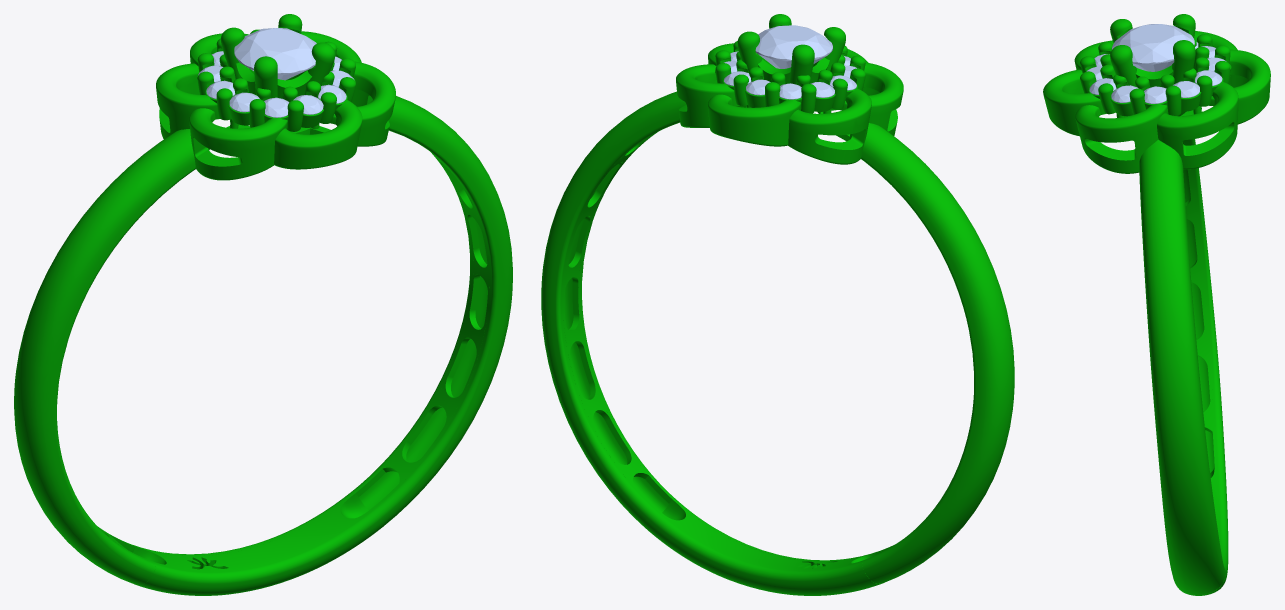
The picture shows the model from 3 angles, left to right: view 1: azimuth 30°, elevation 25°; view 2: azimuth 150°, elevation 25°; view 3: azimuth 270°, elevation 25°; orthographic projection. The views are drawn at different scales.
Parts seen in each view (by area): view 1: v.3dm; view 2: v.3dm; view 3: v.3dm.
Boxes of the visible parts, x1,y1,x2,y2 form: v.3dm: (14,14,512,595); v.3dm: (541,14,1014,595); v.3dm: (1043,14,1270,595).
Size of the model in its own units: 2.57 by 2.86 by 1.09.
